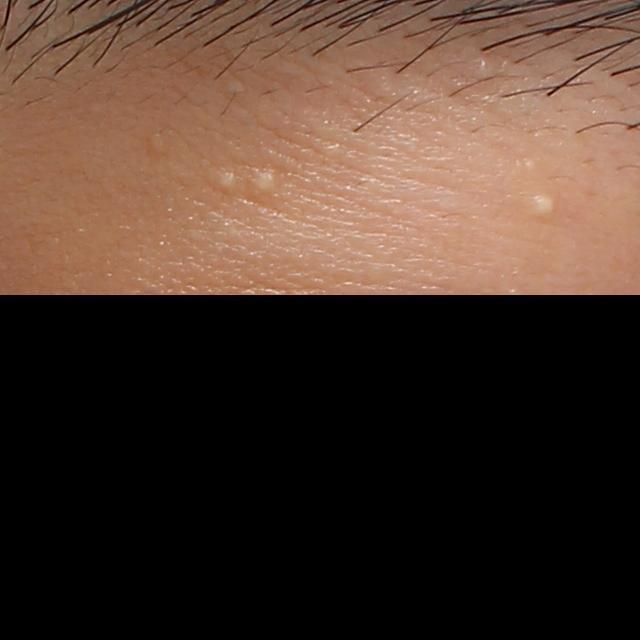other: (528, 187, 557, 218), (254, 169, 278, 197), (216, 172, 237, 193)
